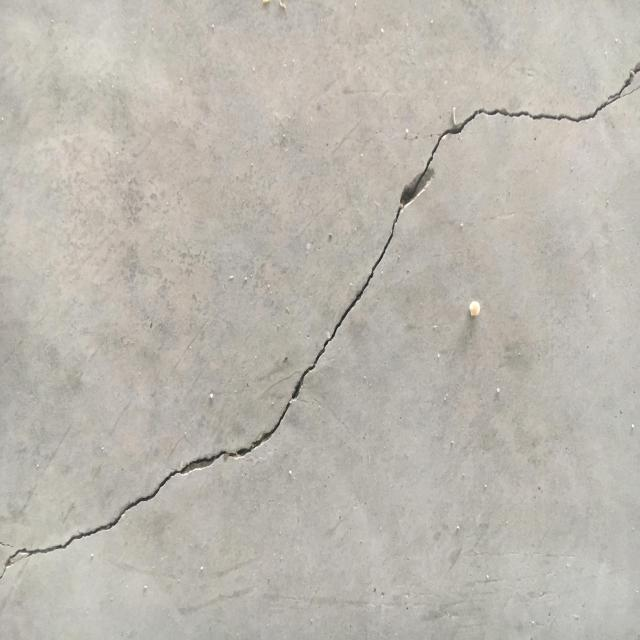SurfaceCrack: (1, 1, 640, 636)
